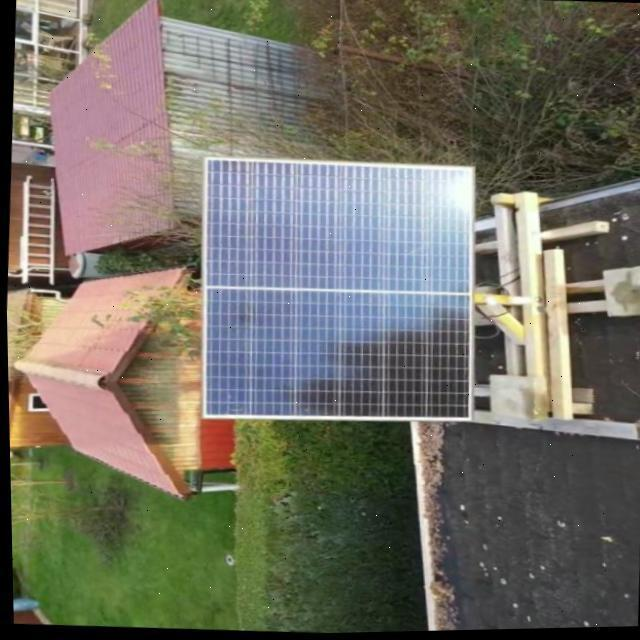Normal Solar Panel: (192, 155, 480, 432)
